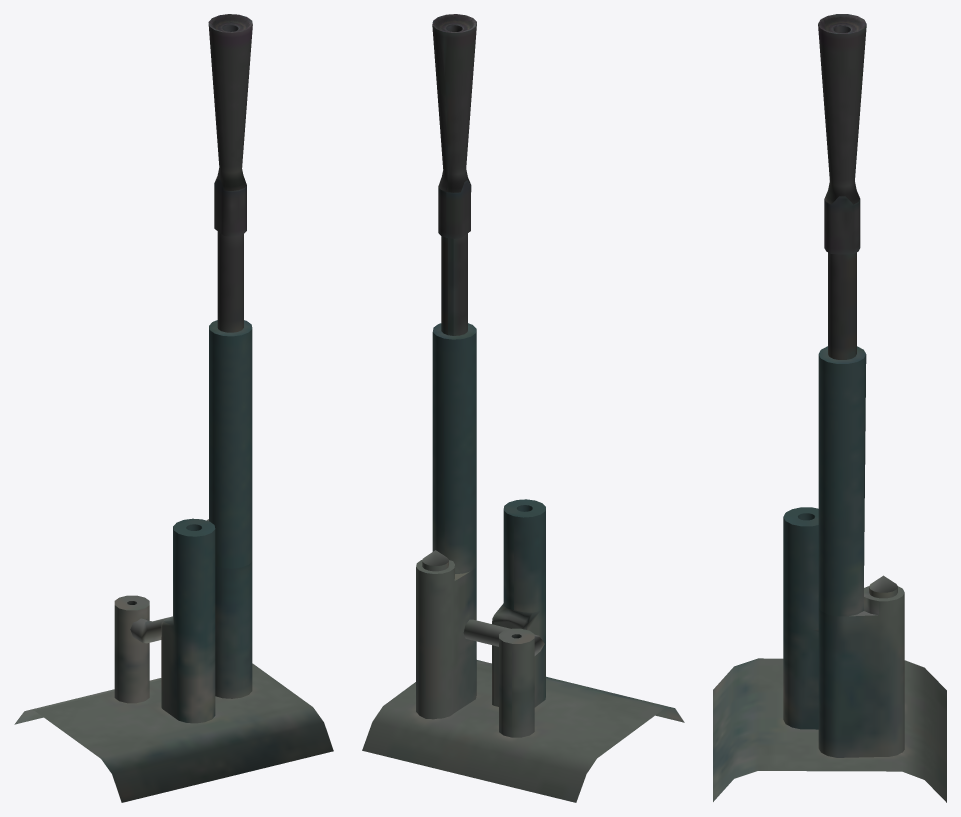
The model's file is Gun_02.glb.
3 views of the same model, side by side, from view 1: azimuth 30°, elevation 25°; view 2: azimuth 150°, elevation 25°; view 3: azimuth 270°, elevation 25° (orthographic). The views are drawn at different scales.
Parts seen in each view (by area): view 1: set_0_group_0; view 2: set_0_group_0; view 3: set_0_group_0.
Boxes of the visible parts, x1=… form: set_0_group_0: x1=14, y1=14, x2=333, y2=802; set_0_group_0: x1=362, y1=14, x2=684, y2=802; set_0_group_0: x1=713, y1=14, x2=946, y2=802.
Size of the model in its own units: 0.379 by 1.19 by 0.3331.
Materials: 1 (1 with a texture image).
